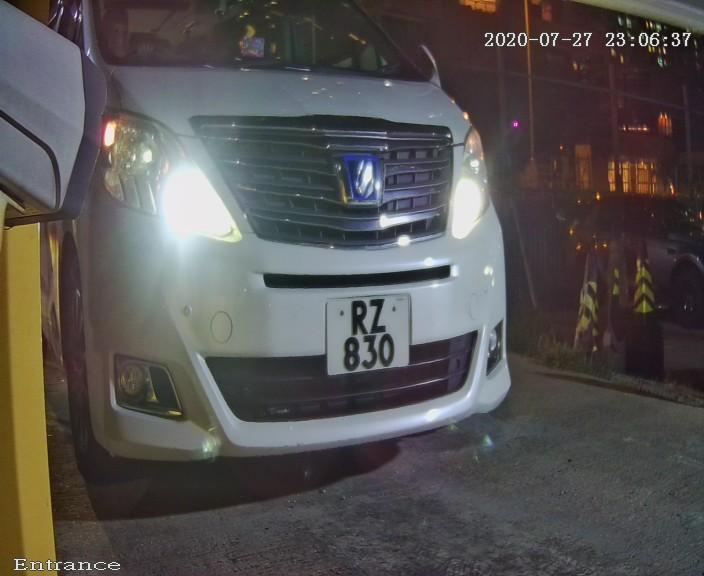privatecar: (41, 3, 544, 515)
